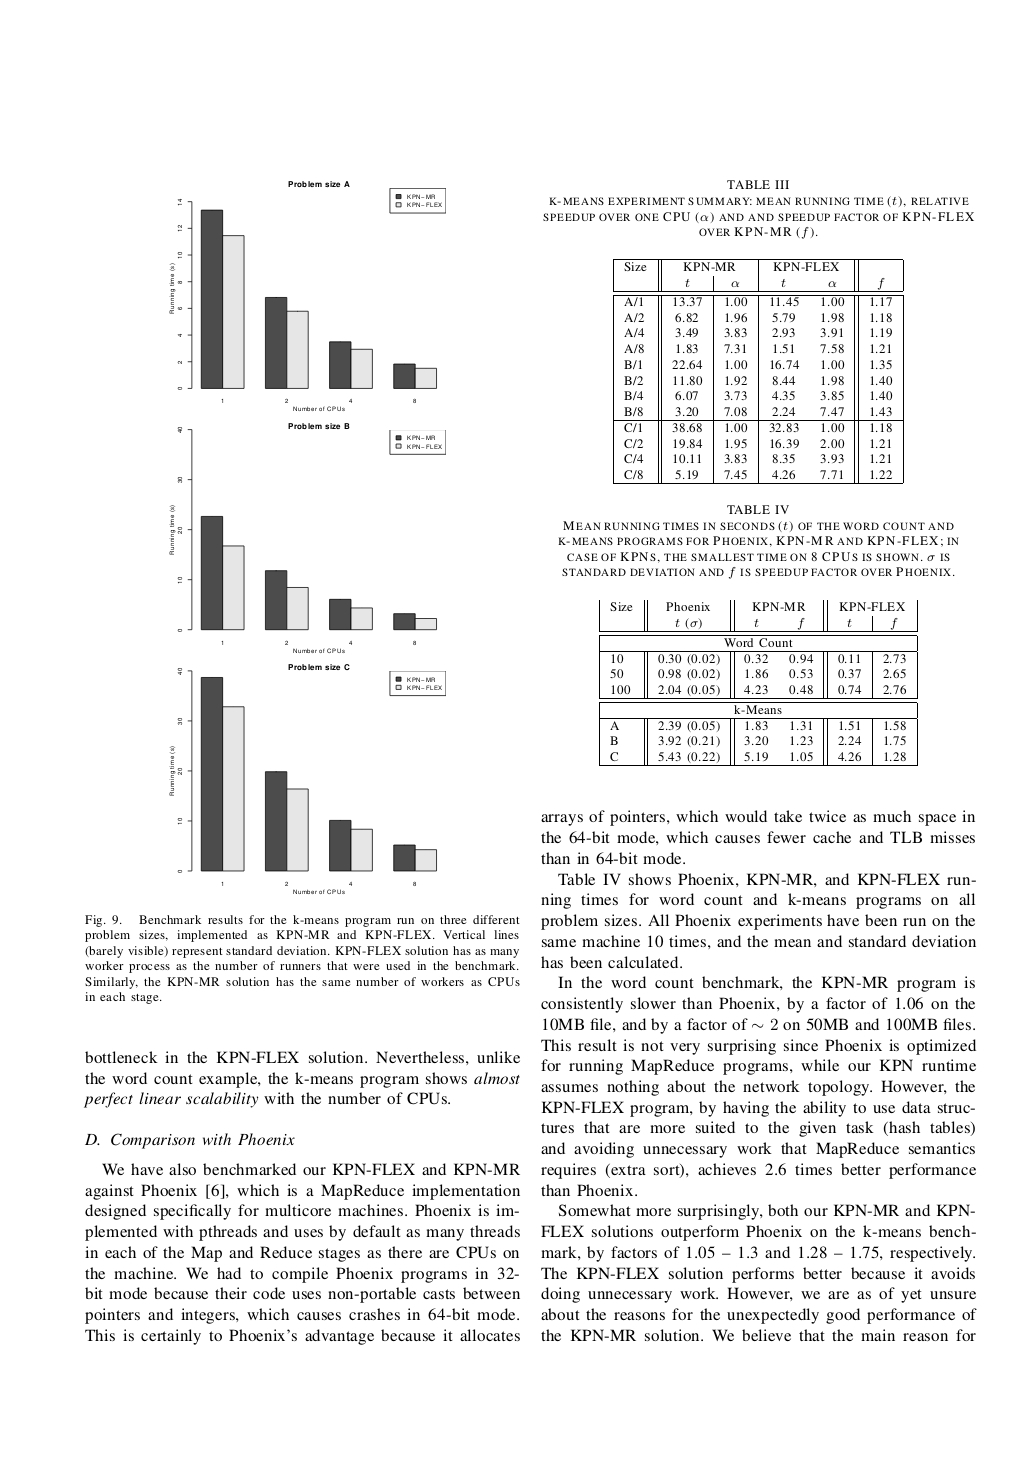Table: (613, 258, 903, 484), (599, 598, 917, 766)
figure: (168, 181, 445, 410), (168, 423, 445, 653), (168, 664, 445, 893)
